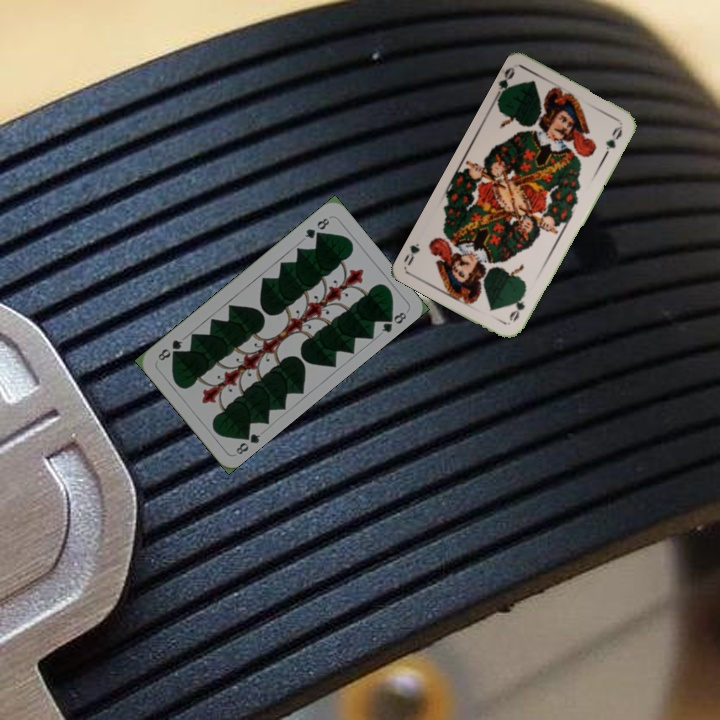G8: (232, 427, 263, 457), (300, 214, 332, 241)
GO: (491, 63, 518, 102), (505, 287, 528, 324)
